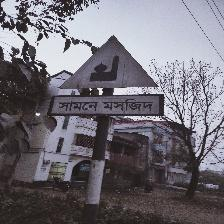Mosque in front: (48, 36, 165, 123)
